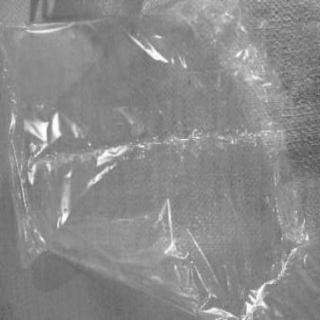objects: (14, 0, 300, 320)
